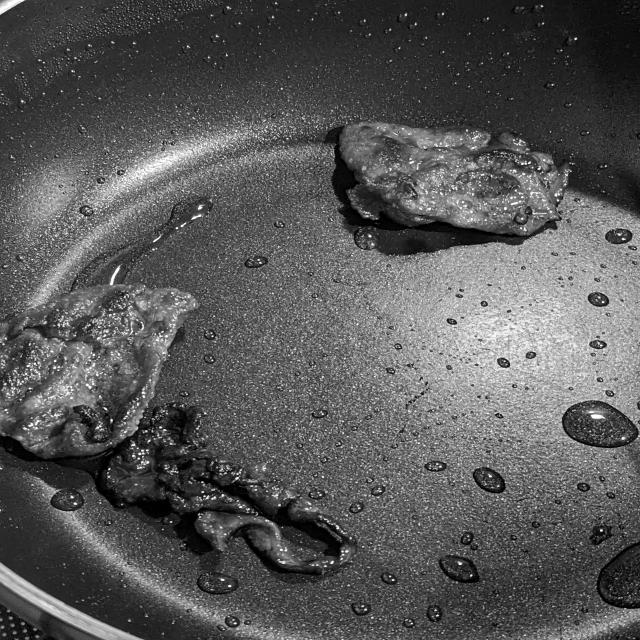overcooked pork: (86, 399, 371, 583), (0, 278, 221, 468), (326, 122, 593, 247)
